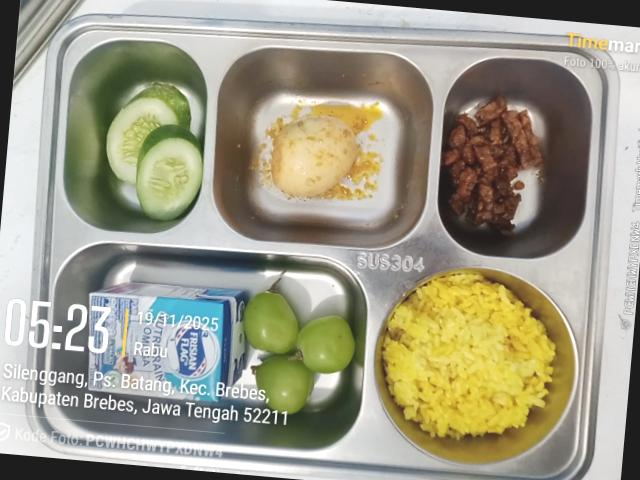buah: (243, 276, 354, 413)
nasi: (382, 273, 554, 439)
sayur: (106, 82, 202, 220)
susu: (89, 282, 245, 401)
telur: (271, 116, 356, 196)
tempe: (442, 96, 540, 234)
